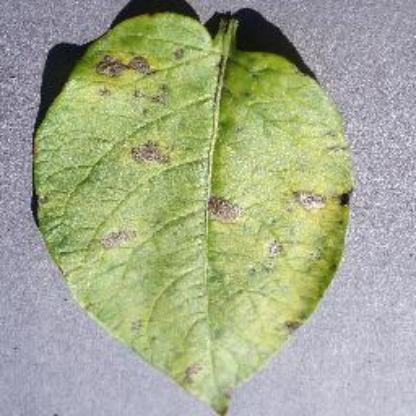Early-Blight: (25, 11, 359, 414)
